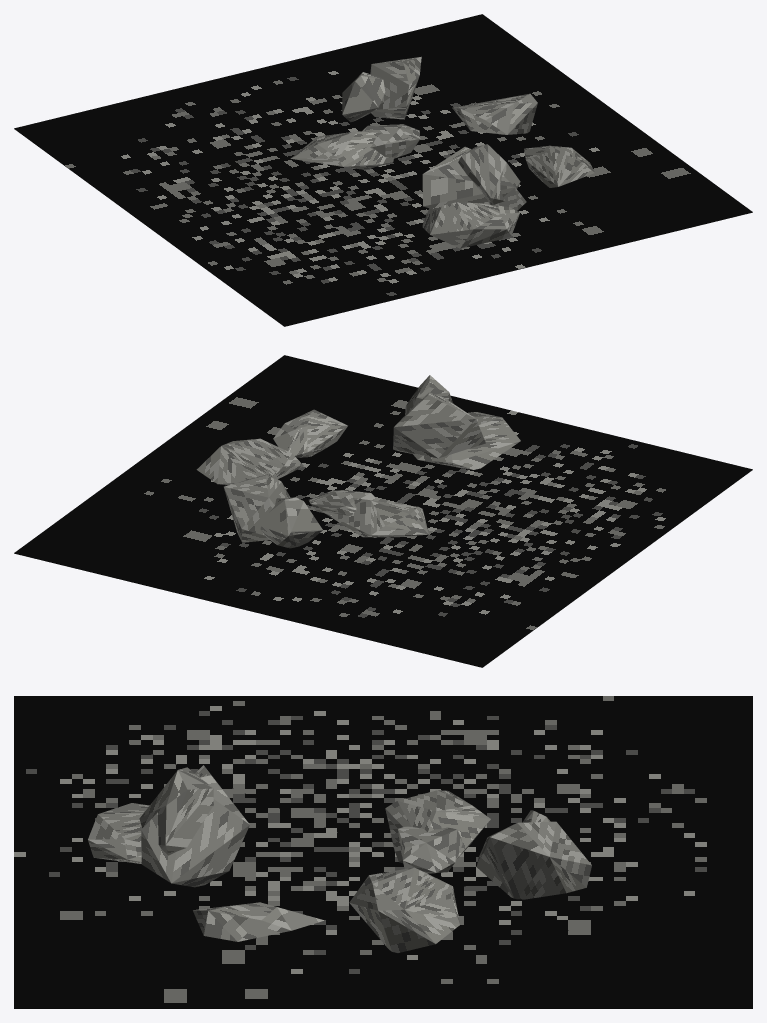
The model's file is fd_rubble.glb.
3 views of the same model, one above another, from view 1: azimuth 30°, elevation 25°; view 2: azimuth 150°, elevation 25°; view 3: azimuth 270°, elevation 25° (orthographic). The views are drawn at different scales.
Parts seen in each view (by area): view 1: block_grit, block_rock (×9); view 2: block_grit, block_rock (×9); view 3: block_grit, block_rock (×8).
Part boxes in pixels (x1,y1,x2,y2): block_grit: [14, 14, 752, 326]; block_rock (×9): [290, 56, 594, 248]; block_grit: [14, 355, 752, 667]; block_rock (×9): [196, 375, 520, 548]; block_grit: [14, 696, 752, 1008]; block_rock (×8): [88, 765, 591, 952].
Size of the model in its own units: 1 by 0.1554 by 1.
Materials: 2 (2 with a texture image).
